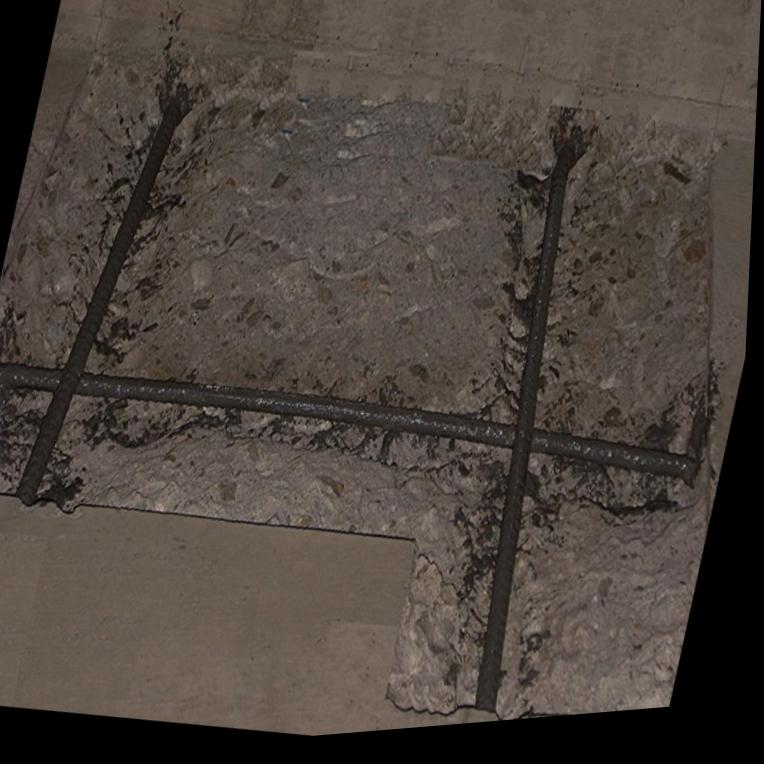damage: (0, 63, 716, 730)
